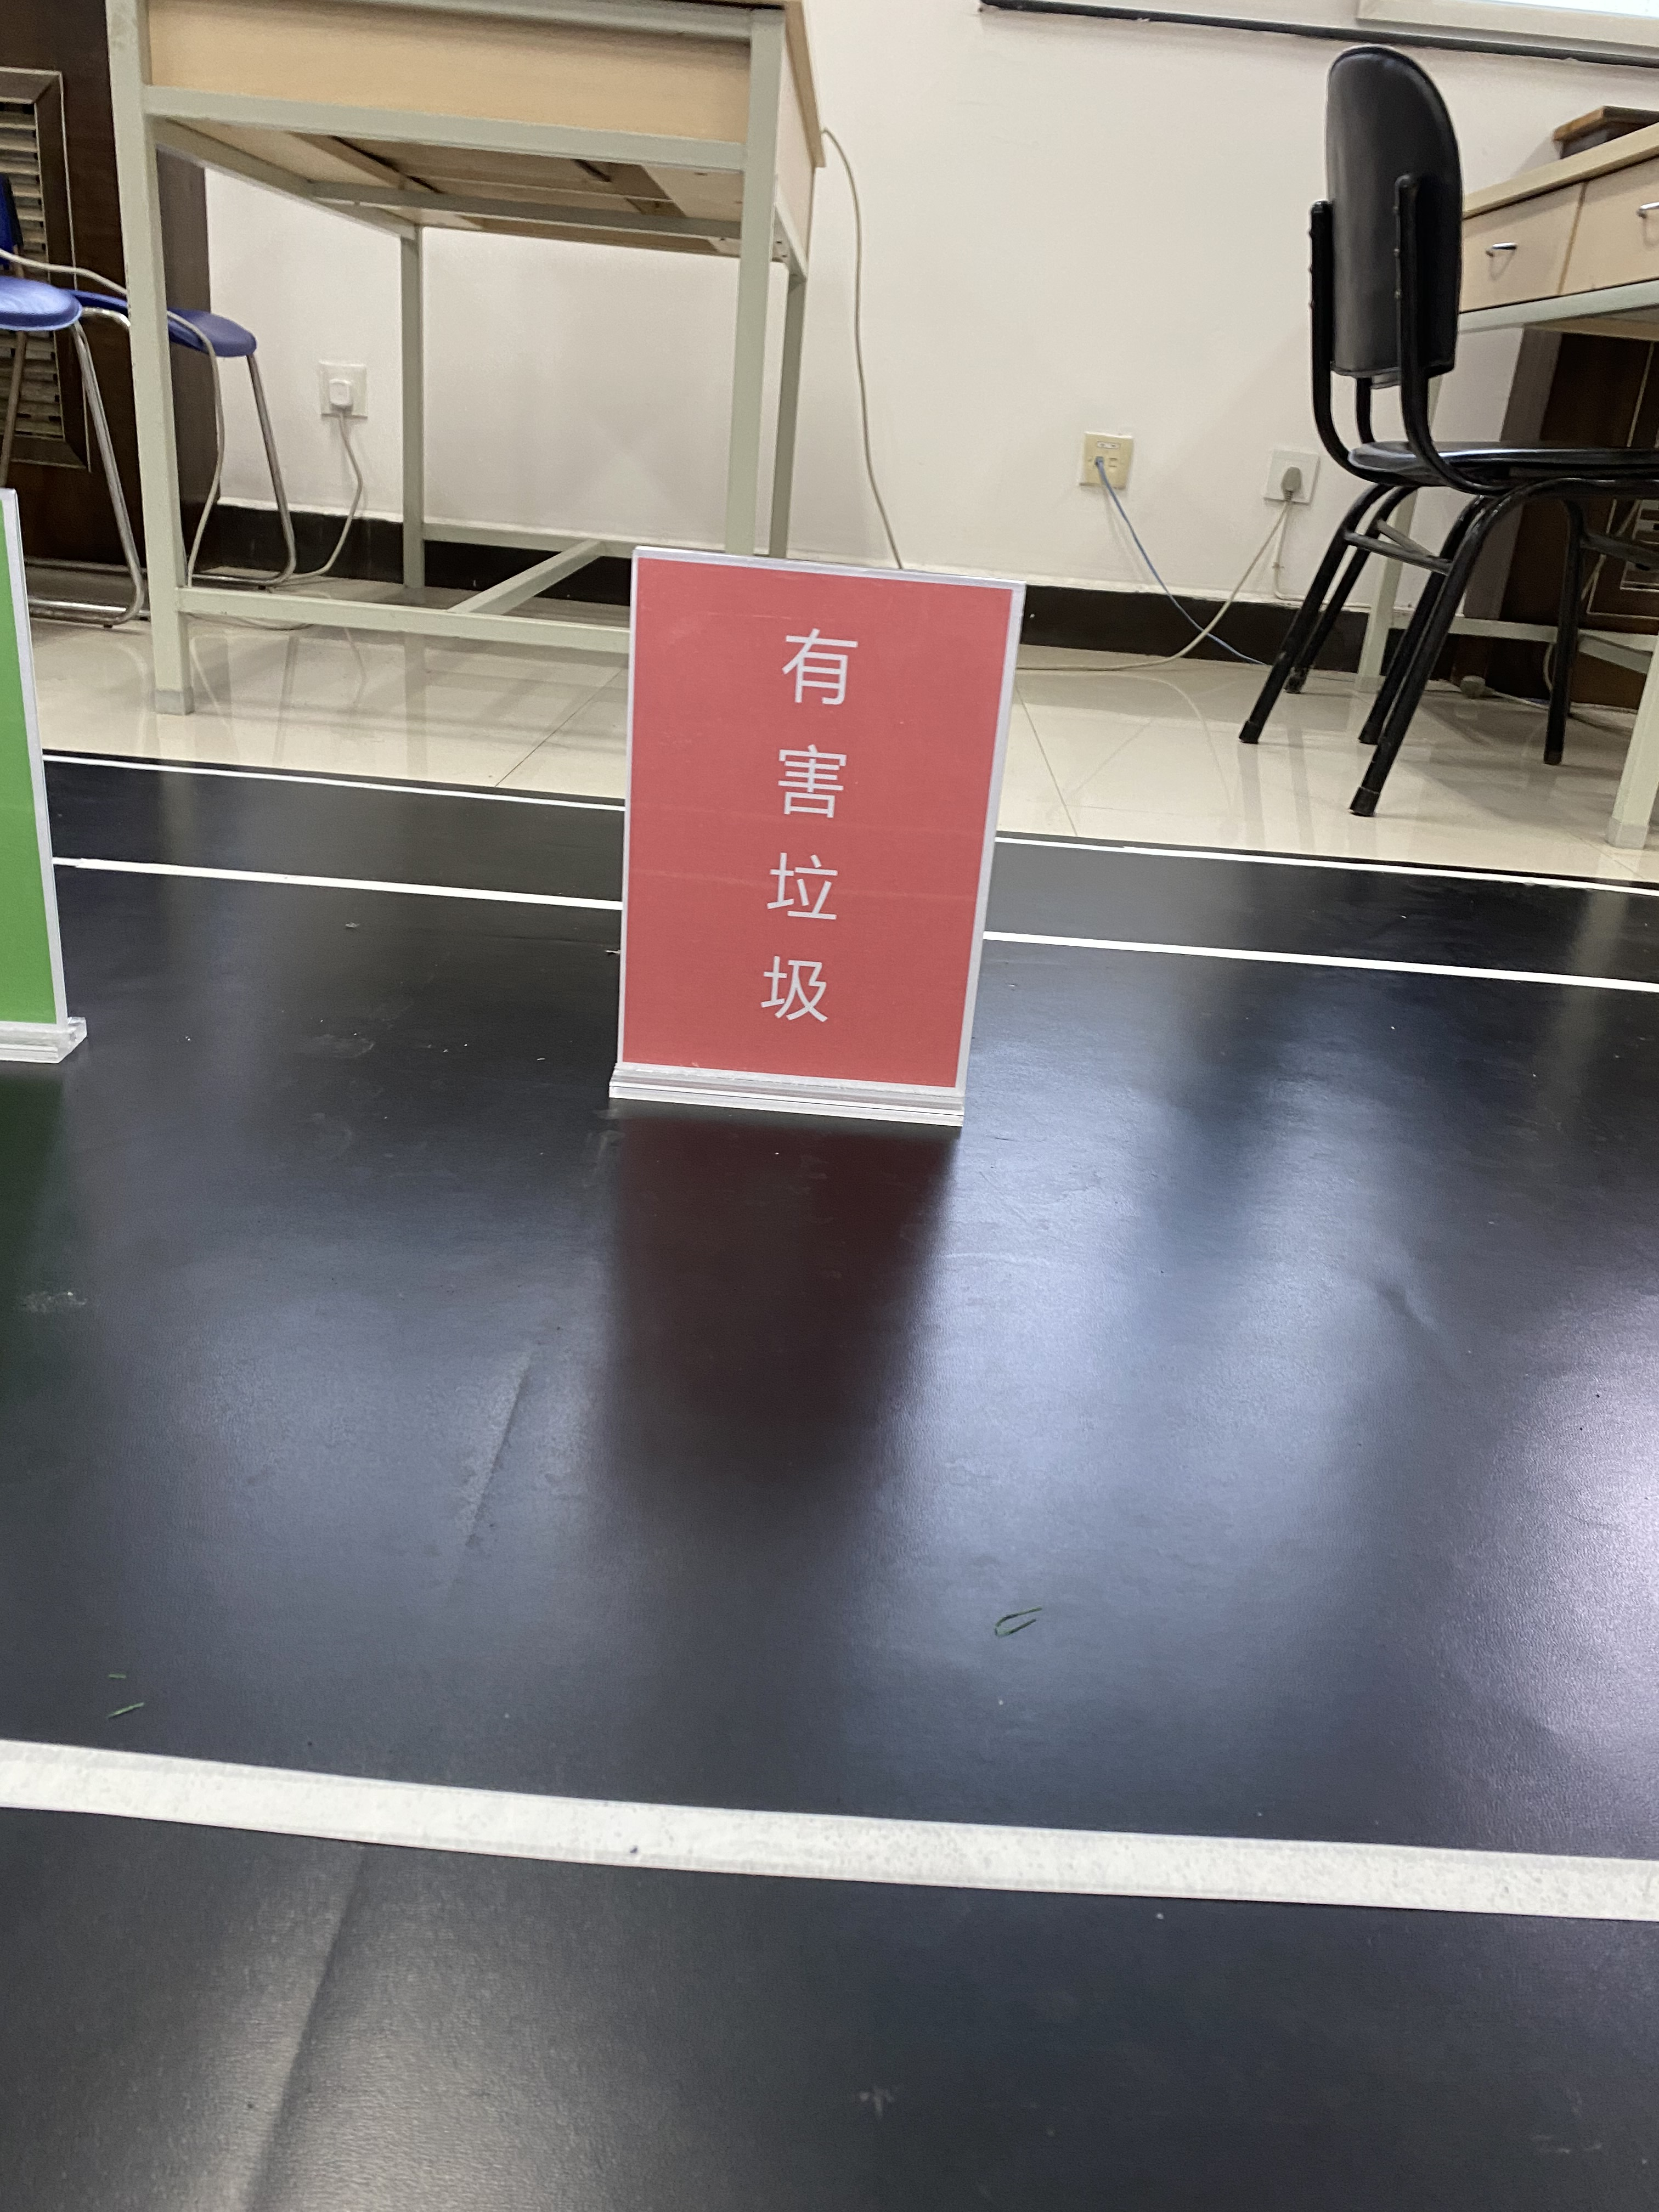red: (660, 597, 943, 1040)
